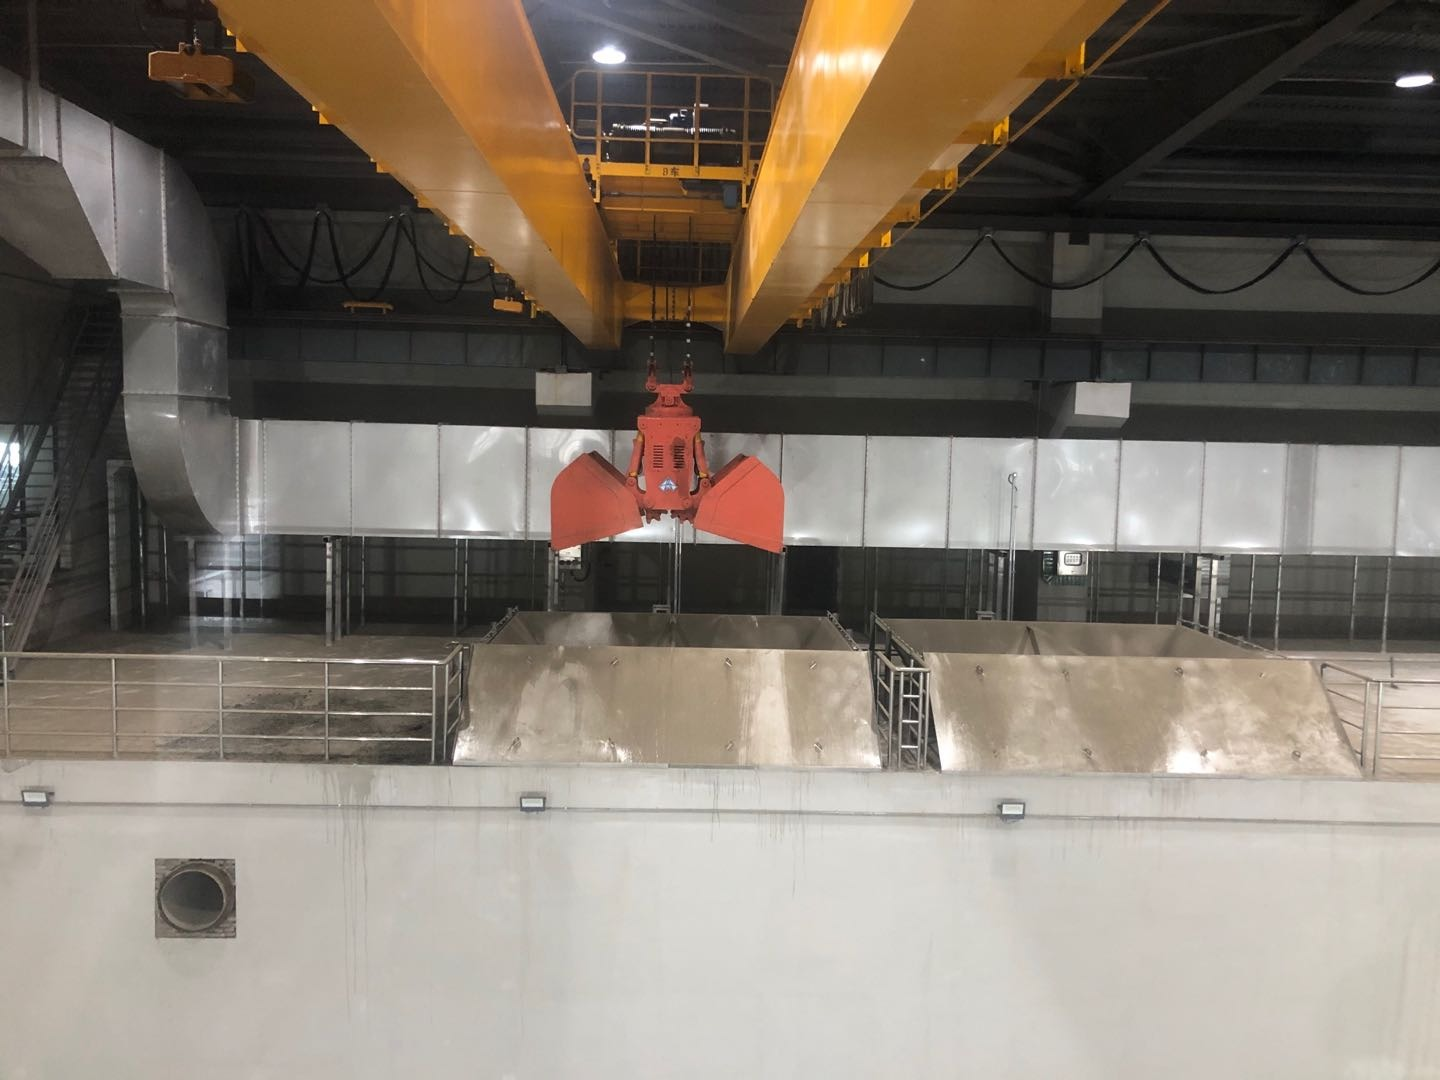grab: (542, 378, 795, 577)
